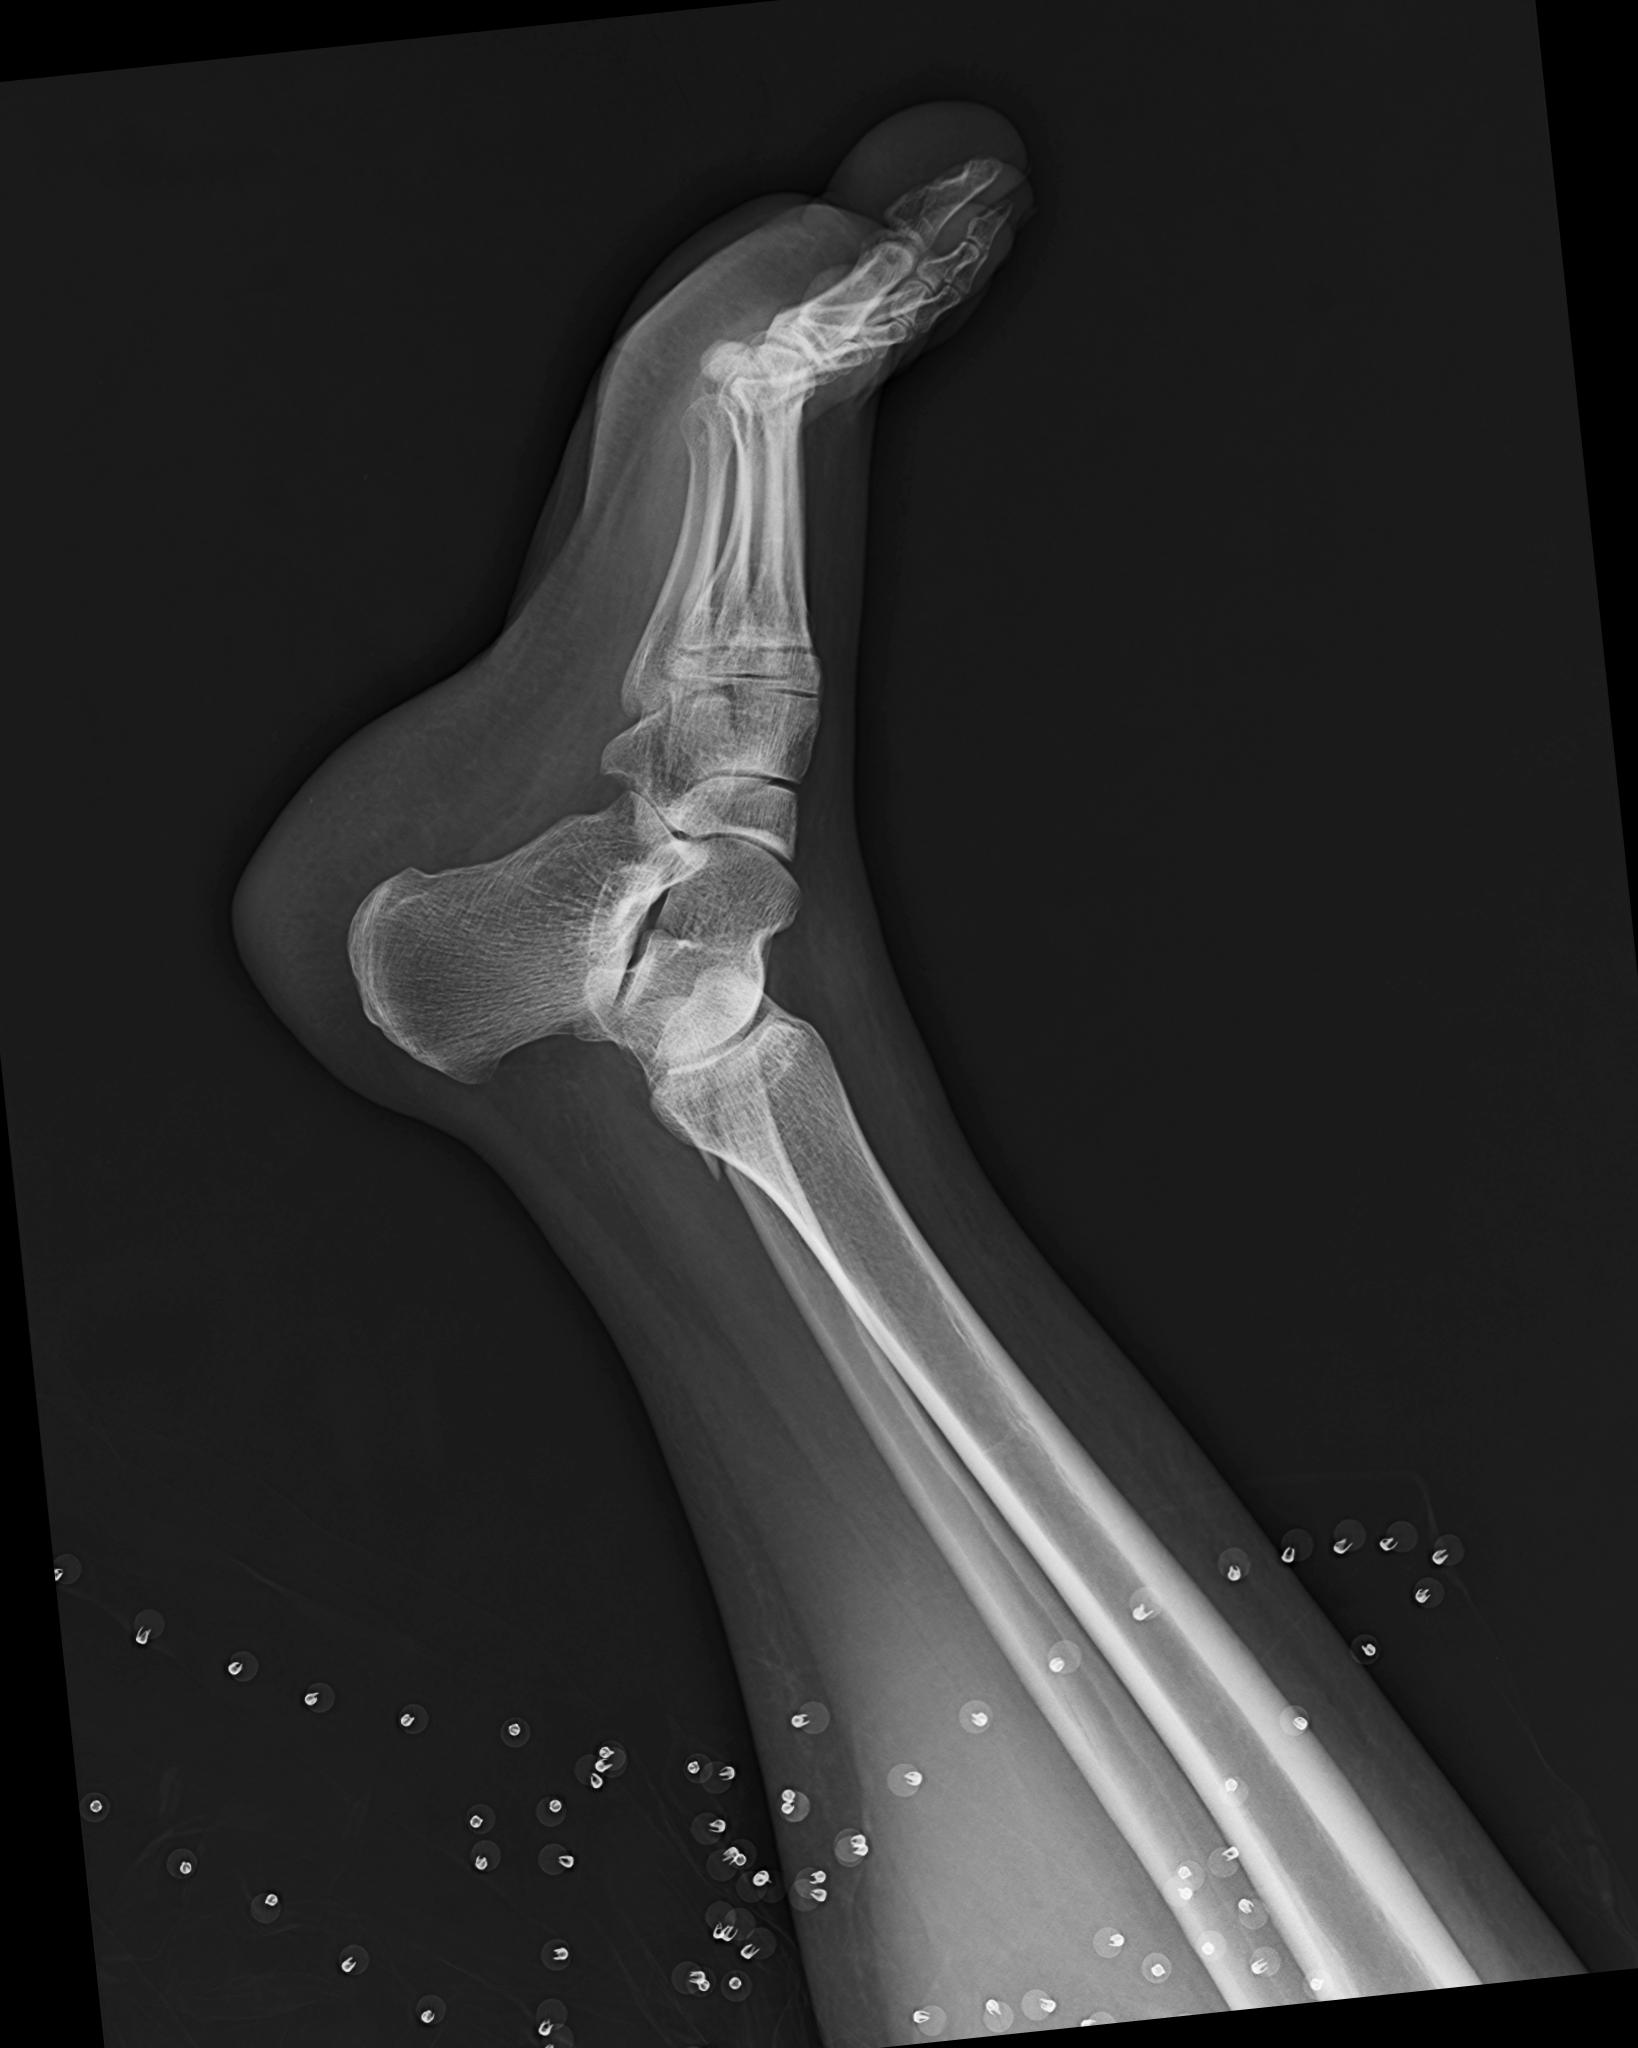fractured: (689, 1028, 747, 1214)
